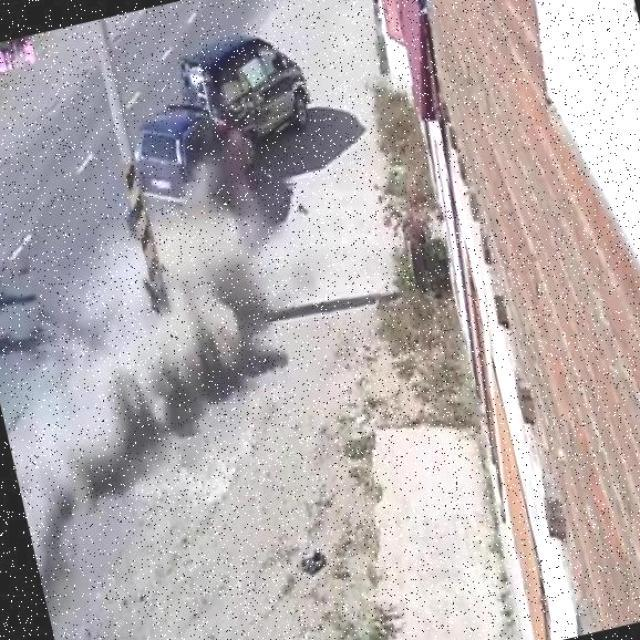accident: (136, 37, 278, 203)
